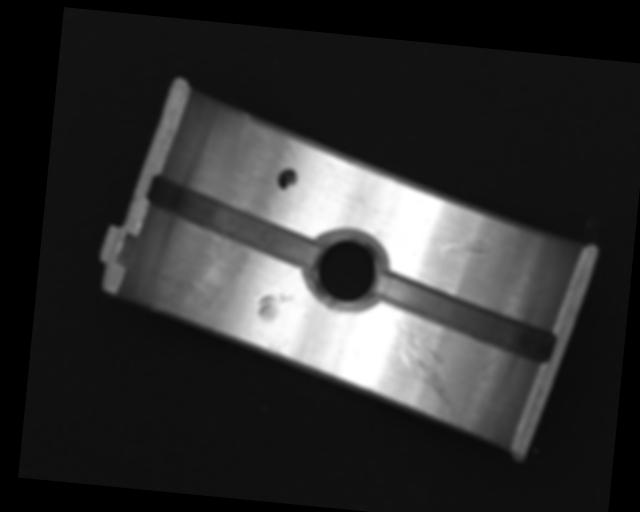blot: (275, 167, 299, 192)
bruise: (256, 292, 293, 325), (266, 341, 286, 356)
gap: (370, 273, 560, 364), (144, 173, 322, 268)
hole: (307, 225, 388, 313)
nick: (384, 316, 461, 417), (427, 236, 491, 259)
